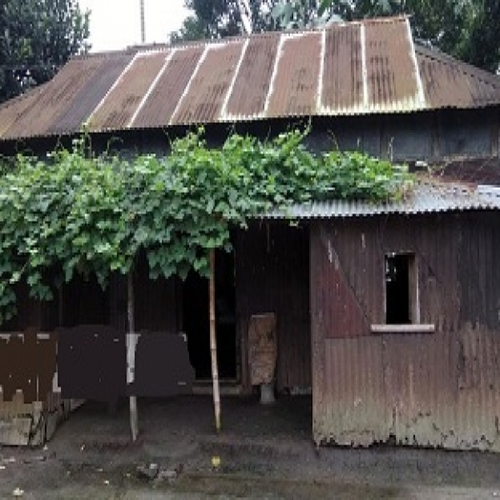Tin-shade House: (20, 30, 487, 439)
